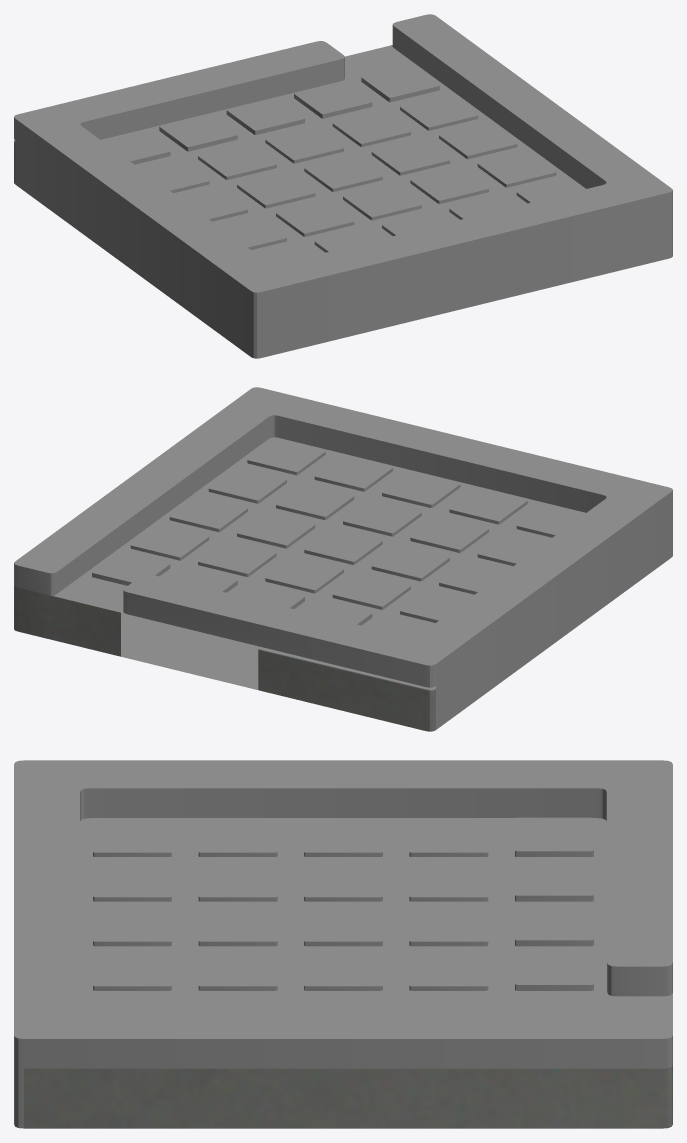
Rendered from gboard.FBX.
3 renders of one model, top to bottom at view 1: azimuth 30°, elevation 25°; view 2: azimuth 150°, elevation 25°; view 3: azimuth 270°, elevation 25°, orthographic. The views are drawn at different scales.
Parts seen in each view (by area): view 1: Box001; view 2: Box001; view 3: Box001.
Boxes of the visible parts, box(x1,y1,x2,y2) form: Box001: box(14, 14, 672, 358); Box001: box(14, 387, 672, 731); Box001: box(14, 760, 672, 1128).
Bounding box in the file's own units: 1000 × 150 × 1000.
